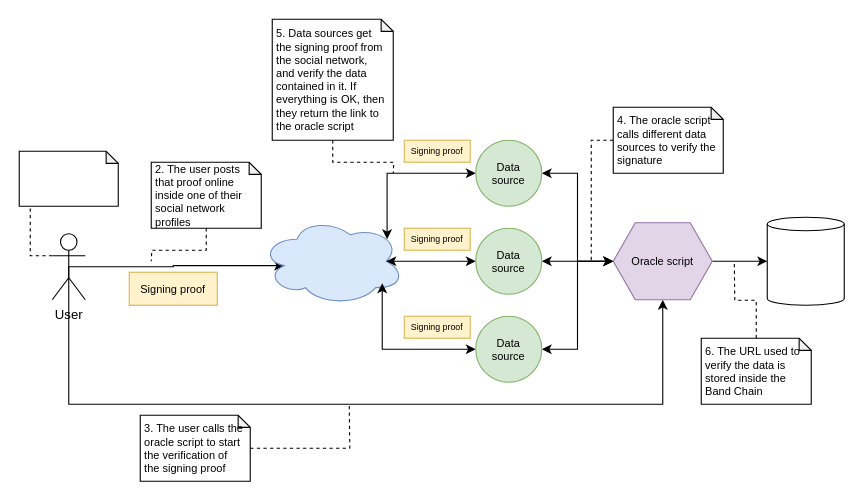
This 864x501 diagram has some shape labels left out. The shapes that lost their labels are listed below. From the top down, each one's centre as x and y in pixels, then its label:
At [68,178]: "1. The user generates a signing proof".
At [332,260]: "Social network (Twitter, GitHub, ...)".
At [805,260]: "Band chain".
